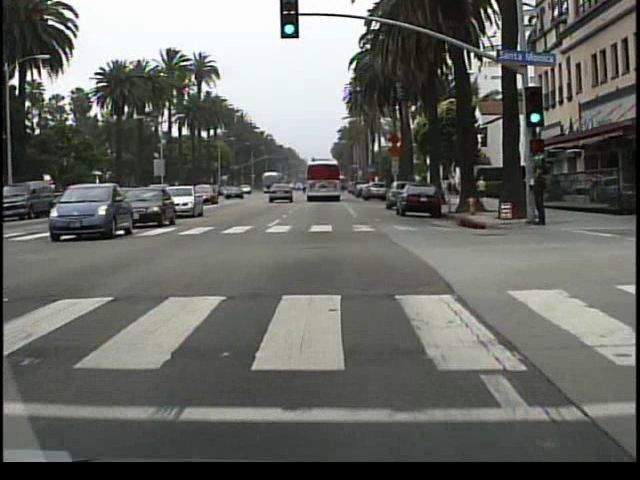person: (528, 162, 548, 228)
